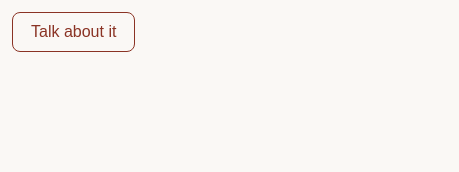
VoiceInputButton -- error mapping › maps error 'not-allowed' to the expected message
The width and height of the screenshot is (459, 172).
Step 1. Click the button → [74, 32], box [12, 12, 135, 52]
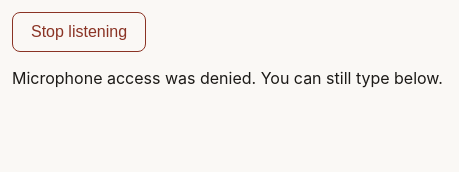
Expected: the text "Microphone access was denied. You can still type below." is shown, [12, 68, 443, 88]
